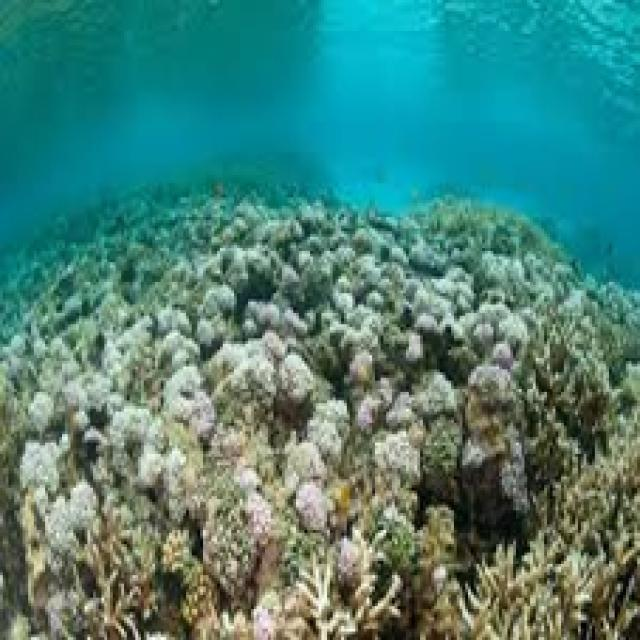Bleached: (48, 477, 104, 555), (164, 366, 213, 436), (18, 434, 68, 500), (417, 267, 470, 329), (218, 342, 277, 393), (61, 369, 111, 429), (306, 403, 347, 471), (137, 422, 168, 497), (246, 247, 298, 290), (103, 337, 137, 402), (110, 403, 157, 450), (371, 431, 419, 476), (278, 353, 317, 405), (296, 478, 329, 536), (482, 252, 526, 295), (298, 244, 352, 278), (157, 451, 189, 499), (163, 335, 204, 372), (222, 243, 256, 286), (203, 283, 240, 319), (282, 299, 306, 352), (117, 316, 153, 351), (329, 278, 362, 316), (350, 316, 382, 355), (385, 391, 413, 435), (473, 364, 517, 391), (195, 316, 237, 342), (156, 308, 191, 337), (29, 392, 53, 434), (494, 319, 535, 343), (411, 240, 444, 267), (246, 300, 280, 326), (355, 257, 382, 285), (403, 333, 427, 360)
Healthy: (195, 477, 261, 595), (501, 437, 537, 529), (427, 418, 461, 504), (183, 573, 222, 637), (380, 511, 417, 577), (282, 538, 321, 583), (163, 528, 190, 575), (349, 364, 376, 388)
